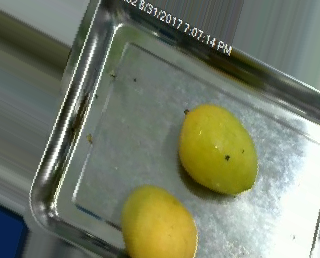Mango: (179, 105, 257, 193), (121, 185, 197, 258)
